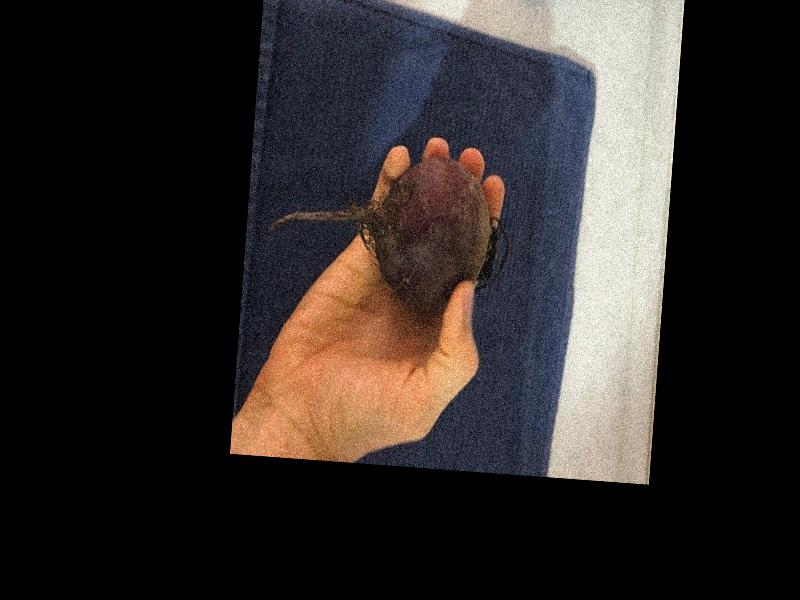Beet: (264, 144, 514, 315)
